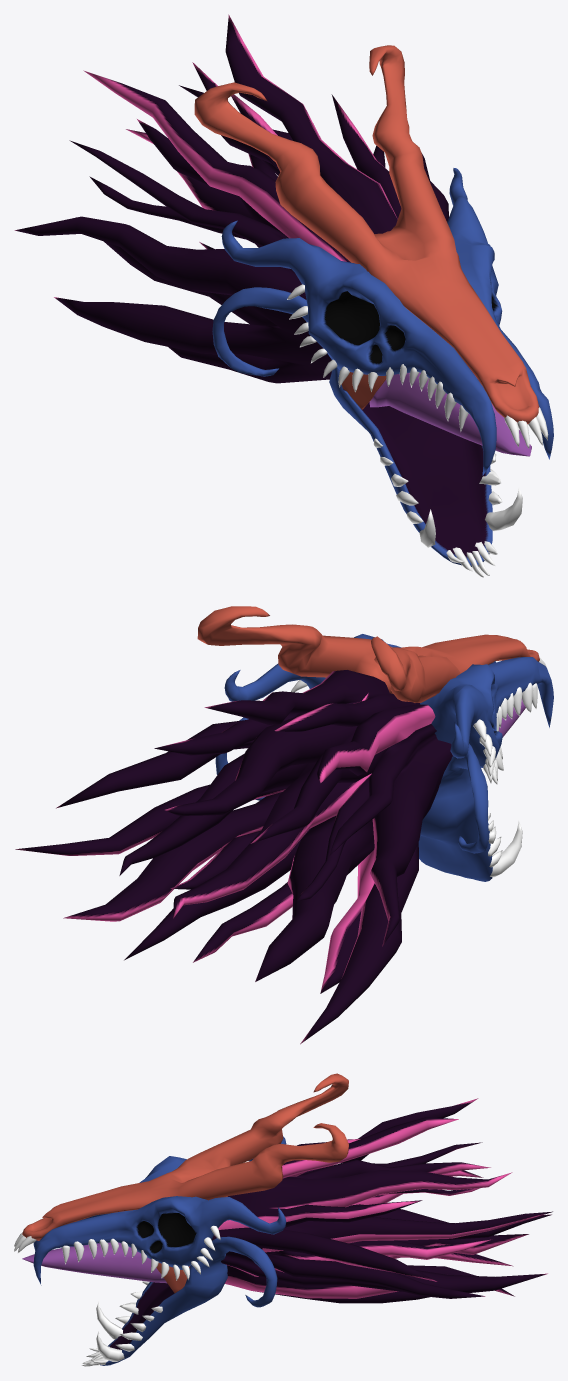
The model's file is Morko_Soften_edge.fbx.
3 renders of one model, top to bottom at view 1: azimuth 30°, elevation 25°; view 2: azimuth 150°, elevation 25°; view 3: azimuth 270°, elevation 25°, orthographic. The views are drawn at different scales.
Parts seen in each view (by area): view 1: FUR, HORNS, SKULL_TOP, SKULL_BOTTOM, TONGUE, TEETH_TOP, TEETH_BOTTOM, MOUTH_LIDS; view 2: FUR, HORNS, SKULL_TOP, SKULL_BOTTOM, TEETH_TOP, TEETH_BOTTOM; view 3: FUR, HORNS, SKULL_TOP, SKULL_BOTTOM, TONGUE, TEETH_BOTTOM, TEETH_TOP, MOUTH_LIDS.
Boxes of the visible parts, box(x1,y1,x2,y2) form: FUR: box(14, 14, 448, 383); HORNS: box(194, 45, 539, 424); SKULL_TOP: box(221, 168, 553, 475); SKULL_BOTTOM: box(212, 287, 492, 566); TONGUE: box(369, 370, 531, 456); TEETH_TOP: box(287, 284, 548, 448); TEETH_BOTTOM: box(373, 438, 522, 577); MOUTH_LIDS: box(341, 372, 386, 409); FUR: box(15, 670, 452, 1044); HORNS: box(197, 606, 539, 702); SKULL_TOP: box(224, 634, 553, 767); SKULL_BOTTOM: box(215, 717, 492, 881); TEETH_TOP: box(291, 657, 546, 784); TEETH_BOTTOM: box(488, 813, 522, 877); FUR: box(212, 1098, 552, 1303); HORNS: box(22, 1073, 348, 1240); SKULL_TOP: box(33, 1136, 286, 1285); SKULL_BOTTOM: box(100, 1236, 277, 1365); TONGUE: box(22, 1242, 166, 1283); TEETH_BOTTOM: box(82, 1281, 162, 1366); TEETH_TOP: box(14, 1225, 220, 1280); MOUTH_LIDS: box(156, 1263, 189, 1293).
Bounding box in the file's own units: 3.01 × 2.95 × 5.47.
